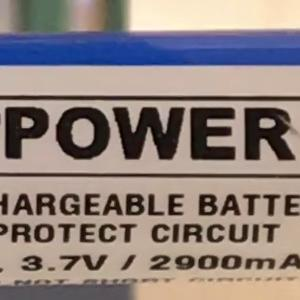keyword: (11, 244, 118, 281)
